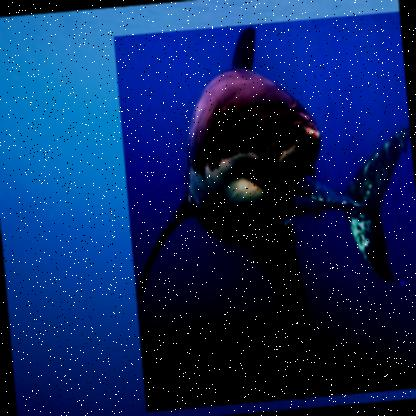white-shark: (112, 10, 415, 415)
